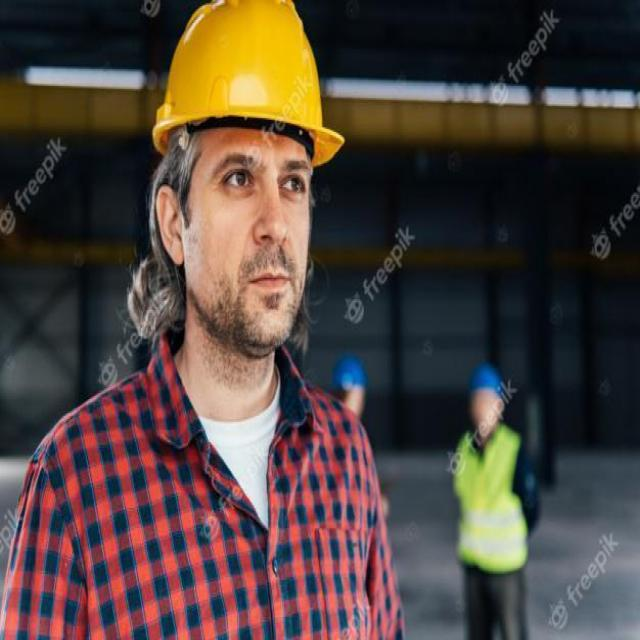hat: (153, 0, 345, 164)
